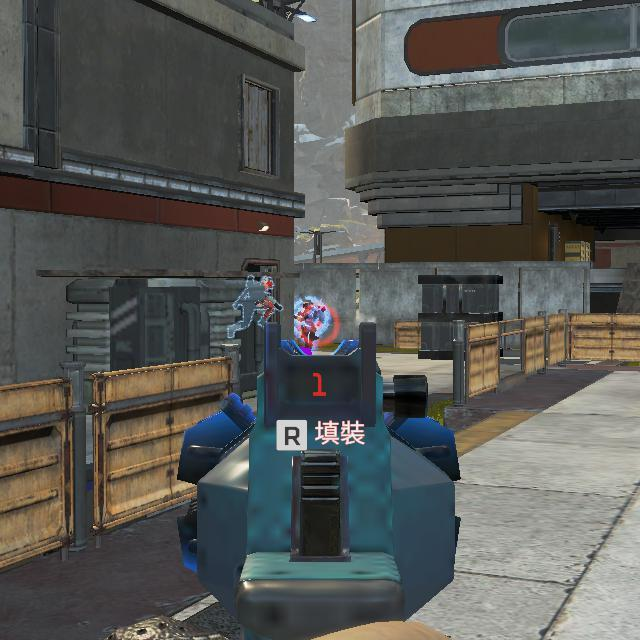avatar: (294, 295, 329, 355)
